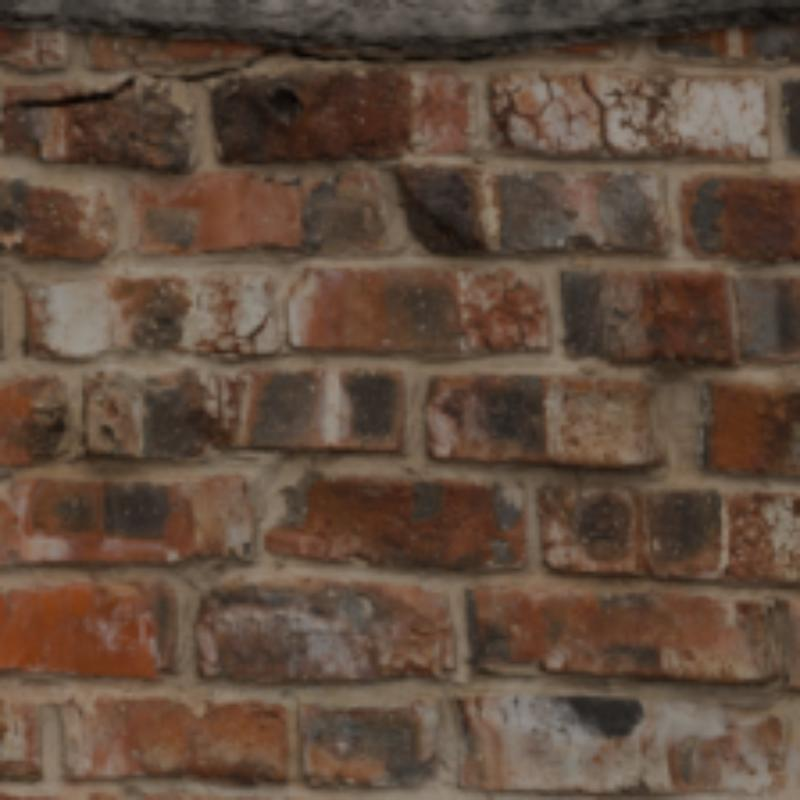crack: (0, 43, 498, 132), (579, 79, 618, 157)
